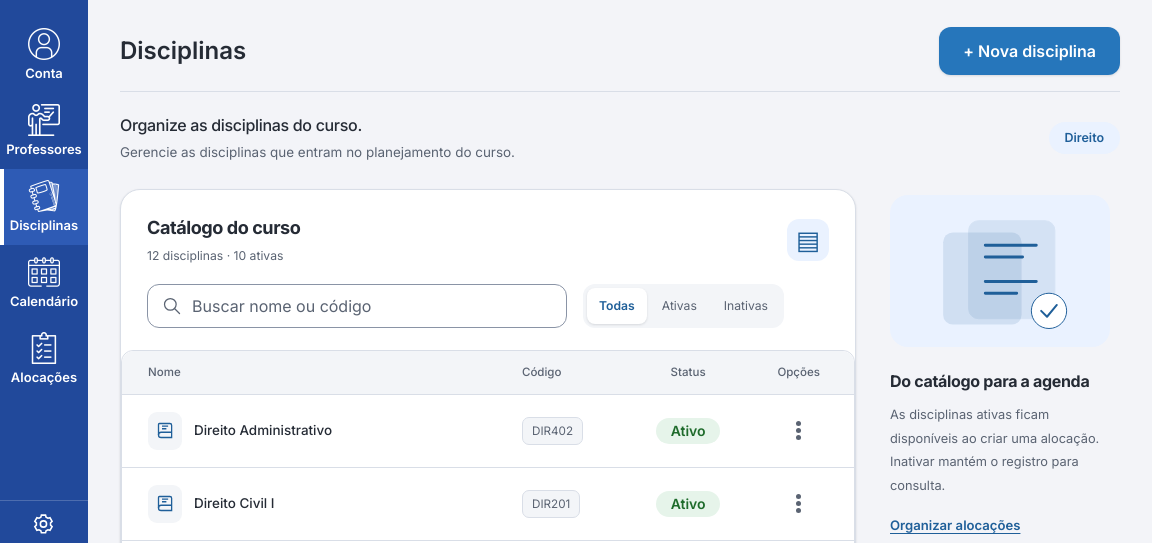
Test: Disciplinas › geração automática do código › gera DIR502 (maior código existente + 1) e informa o código definitivo
This screenshot has width=1152, height=543.
Expected: the text "Direito Civil I" is shown, 148,485 -> 274,523
Click the button "+ Nova disciplina": (1030, 51) 939,27 -> 1120,75
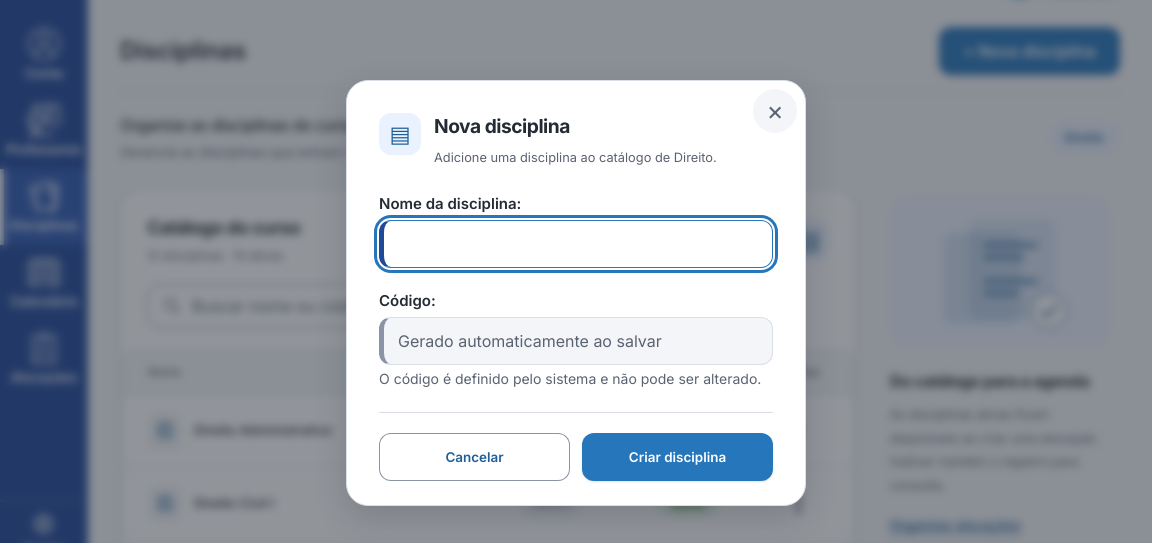
In the field labelled "Nome da disciplina:": (578, 244) 384,220 -> 772,266, type "  Direito   Digital "
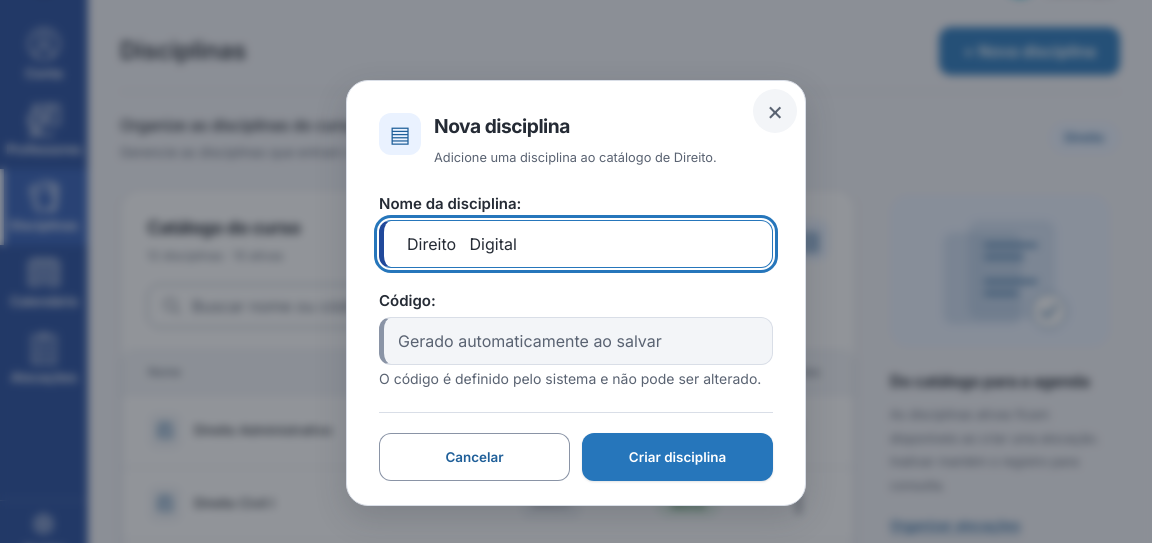
Click the button "Criar disciplina": (678, 457) 582,433 -> 773,481
(page scrolled)
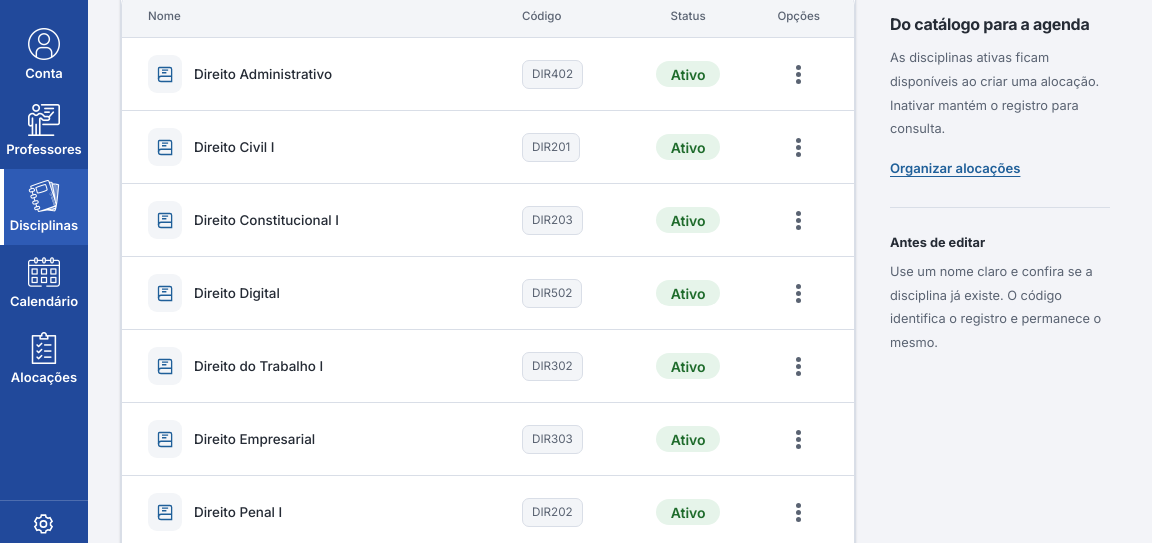
Expected: the dialog is gone
Expected: the text "DIR502" is shown, 522,279 -> 582,308
Expected: the 4th text "Ativo" is shown, 656,280 -> 720,306
